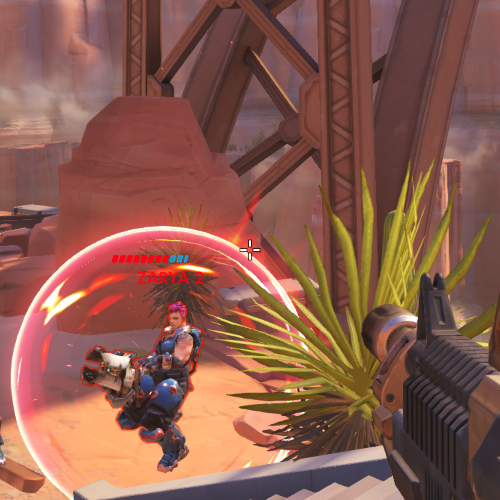hpbar: (111, 254, 227, 264)
